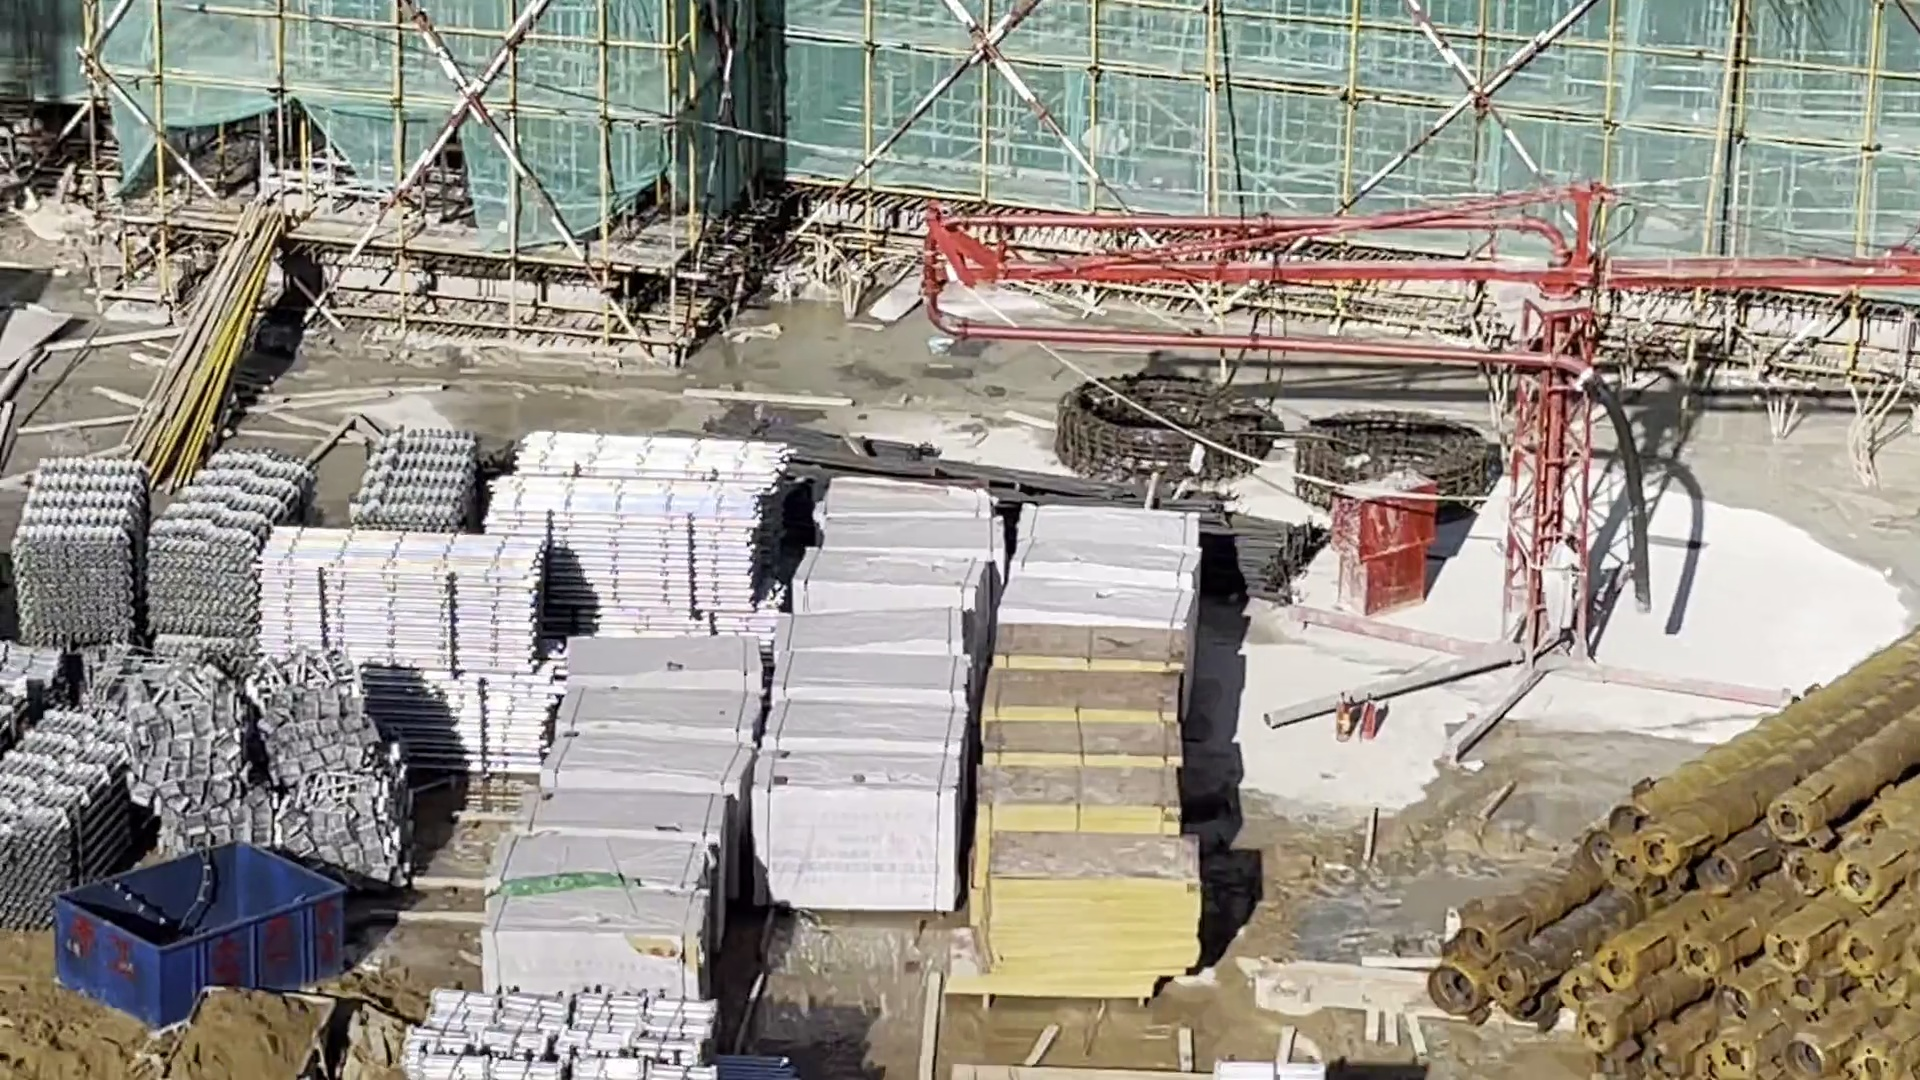board: (961, 841, 1209, 1029), (978, 669, 1209, 756), (975, 791, 1184, 880), (998, 634, 1193, 713), (996, 723, 1193, 785)
hopper: (74, 851, 349, 977)
rebar: (1437, 555, 1920, 1075), (757, 433, 1062, 504), (1241, 495, 1323, 611)
scaffold: (303, 549, 533, 771), (521, 456, 741, 644), (423, 984, 695, 1080), (1, 702, 104, 891), (191, 467, 319, 618), (40, 467, 144, 624), (373, 436, 477, 541)
